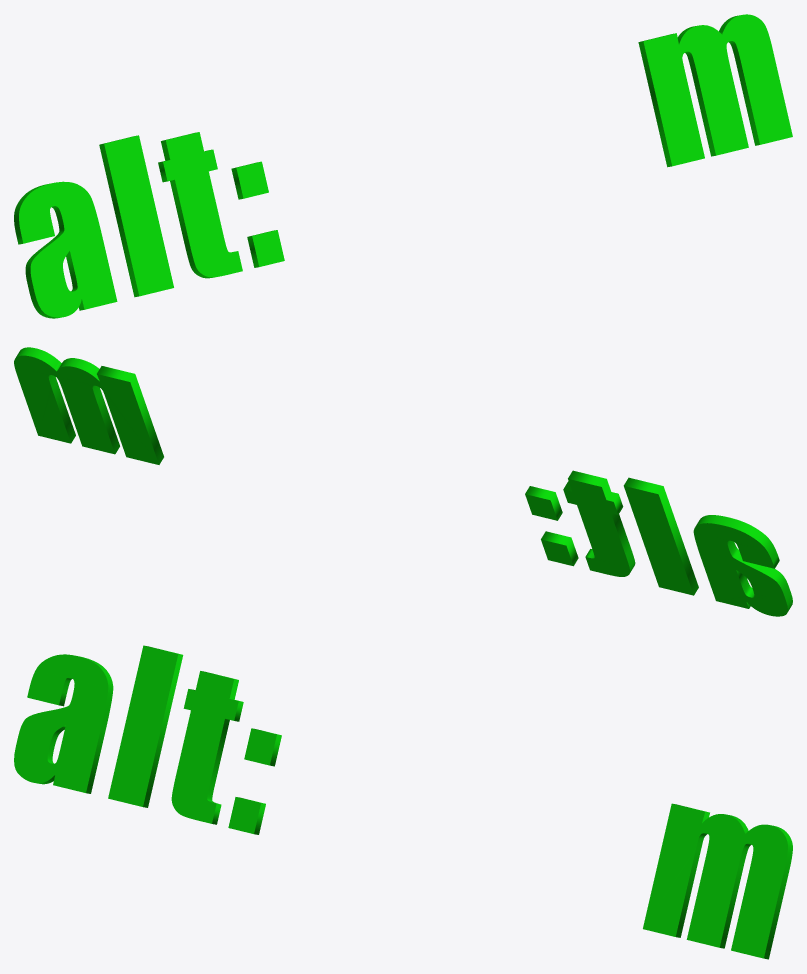
Rendered from alt.obj.
The picture shows the model from 3 angles, top to bottom: view 1: azimuth 30°, elevation 25°; view 2: azimuth 150°, elevation 25°; view 3: azimuth 330°, elevation 25°; orthographic projection.
Visible parts, largest first — view 1: Text.003_Text.005; view 2: Text.003_Text.005; view 3: Text.003_Text.005.
Boxes of the visible parts, <box> form: Text.003_Text.005: <box>14,14,792,318</box>; Text.003_Text.005: <box>14,347,792,616</box>; Text.003_Text.005: <box>14,645,792,959</box>.
Size of the model in its own units: 0.0468 by 0.00792 by 0.00439.
